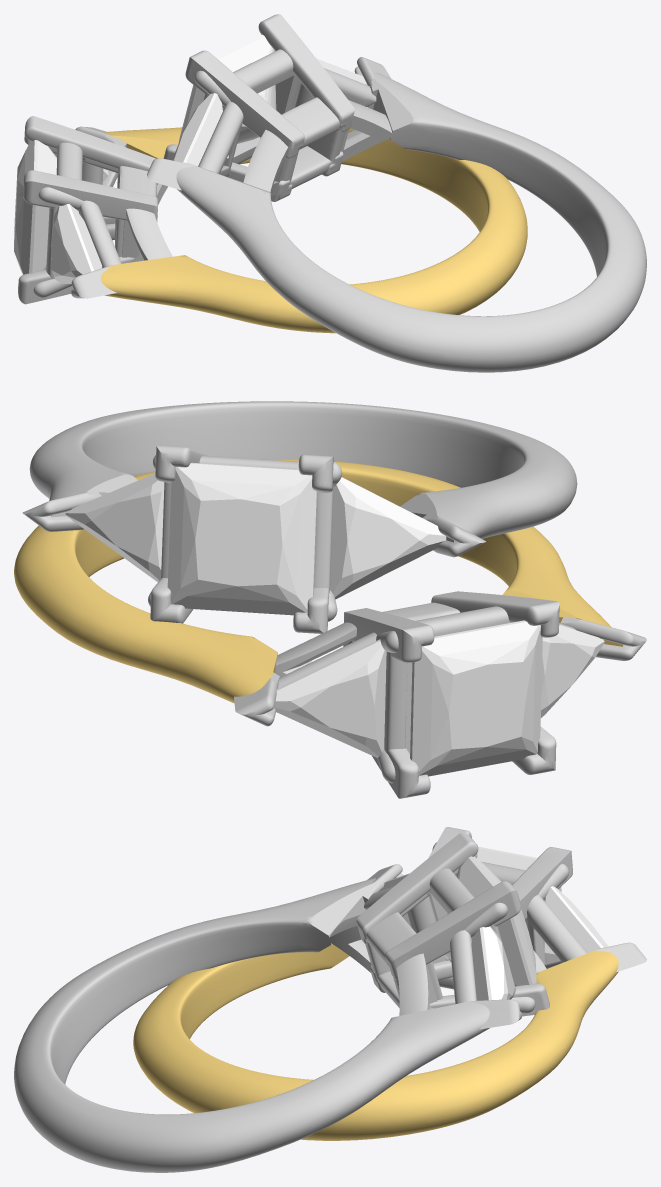
File: mcbreen_2Variations_webgi.glb
The picture shows the model from 3 angles, top to bottom: view 1: azimuth 30°, elevation 25°; view 2: azimuth 150°, elevation 25°; view 3: azimuth 270°, elevation 25°; orthographic projection. The views are drawn at different scales.
Parts seen in each view (by area): view 1: Chris_Mcbreen010, Chris_Mcbreen, Chris_Mcbreen018, Chris_Mcbreen021, Chris_Mcbreen023, Chris_Mcbreen025; view 2: Chris_Mcbreen010, Chris_Mcbreen, Chris_Mcbreen023, Chris_Mcbreen018, Chris_Mcbreen025, Chris_Mcbreen020, Chris_Mcbreen026, Chris_Mcbreen021; view 3: Chris_Mcbreen010, Chris_Mcbreen, Chris_Mcbreen023, Chris_Mcbreen026, Chris_Mcbreen020, Chris_Mcbreen018.
Part boxes in pixels (x1,y1,x2,y2): Chris_Mcbreen010: (147, 14, 646, 372); Chris_Mcbreen: (18, 116, 527, 333); Chris_Mcbreen018: (14, 140, 56, 274); Chris_Mcbreen021: (50, 204, 102, 283); Chris_Mcbreen023: (178, 34, 276, 143); Chris_Mcbreen025: (172, 93, 228, 166); Chris_Mcbreen010: (22, 401, 577, 633); Chris_Mcbreen: (14, 459, 646, 798); Chris_Mcbreen023: (167, 462, 317, 615); Chris_Mcbreen018: (410, 620, 542, 776); Chris_Mcbreen025: (330, 477, 446, 599); Chris_Mcbreen020: (274, 639, 386, 757); Chris_Mcbreen026: (65, 473, 164, 581); Chris_Mcbreen021: (541, 625, 604, 717); Chris_Mcbreen010: (14, 832, 549, 1172); Chris_Mcbreen: (133, 827, 646, 1140); Chris_Mcbreen023: (445, 856, 536, 986); Chris_Mcbreen026: (471, 926, 514, 1000); Chris_Mcbreen020: (544, 886, 608, 963); Chris_Mcbreen018: (476, 846, 561, 891).
Bounding box in the file's own units: 2.66 × 1.04 × 2.8.
